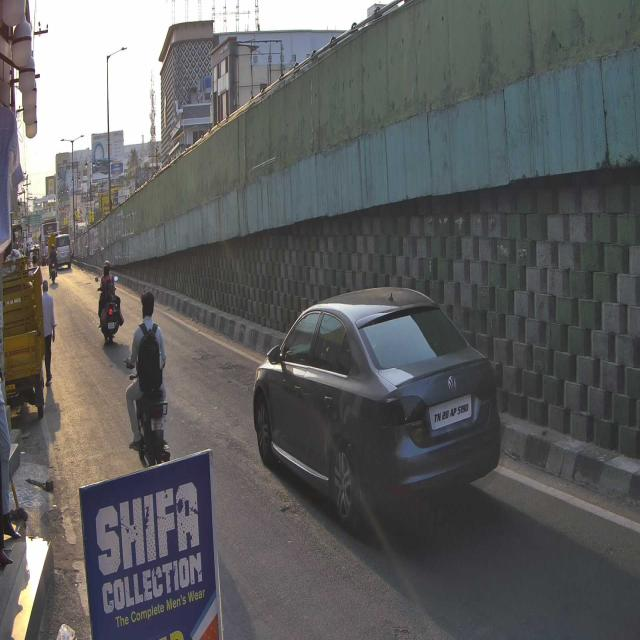single_rider: (124, 290, 172, 473)
